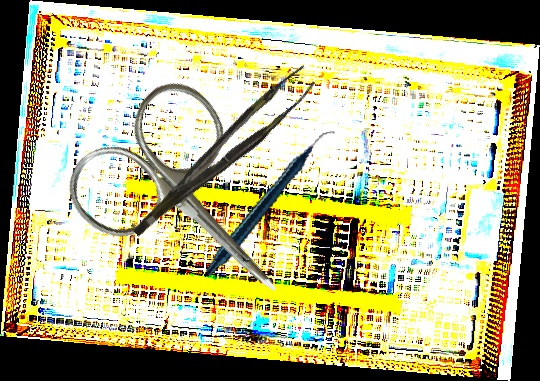Handpiece: (181, 130, 361, 276)
Iris Scissors: (52, 66, 337, 353)
Tissue Forceps: (114, 64, 327, 237)
